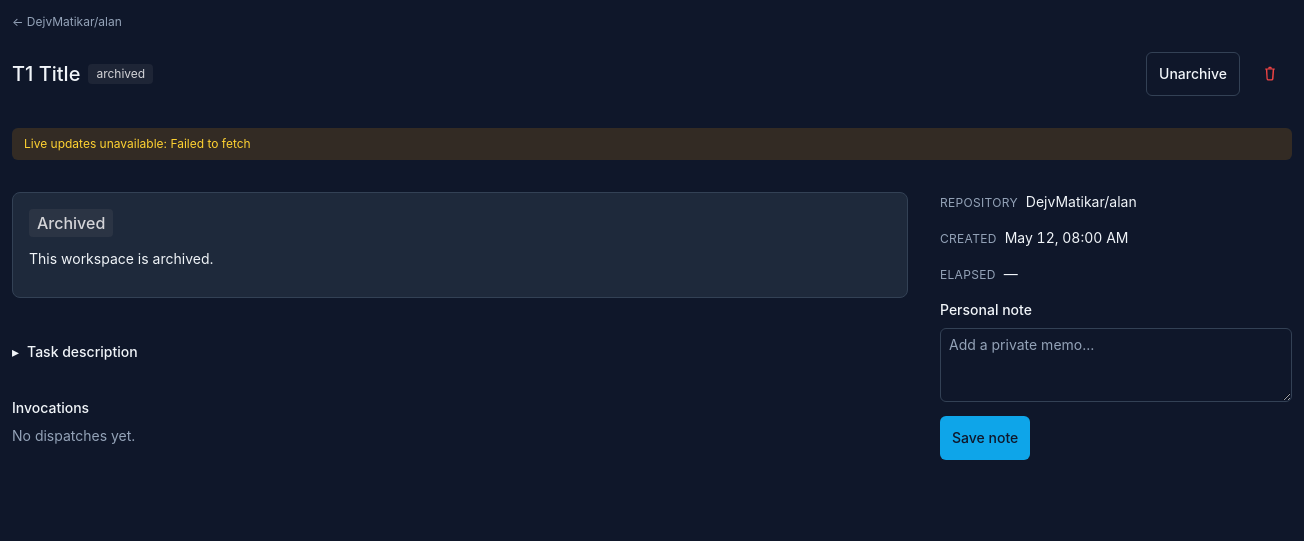
Test: Workspace detail › stringifies non-Error rejections from unarchiveWorkspace
This screenshot has width=1304, height=541.
Click the button "Unarchive": {"x": 1193, "y": 74} [1146, 52, 1240, 96]
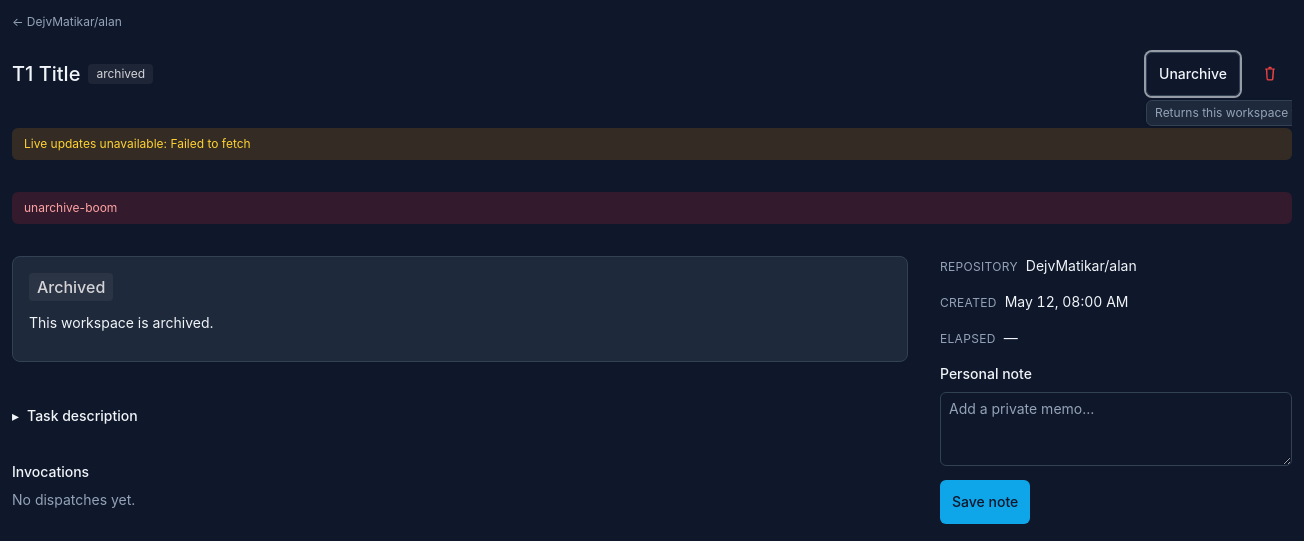
Check: the message with test id "archive-error" reads "unarchive-boom", box [24, 200, 117, 215]
